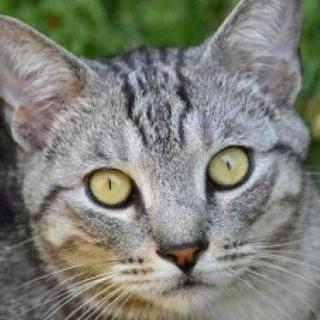cat: (0, 1, 314, 318)
nose: (152, 224, 210, 283)
